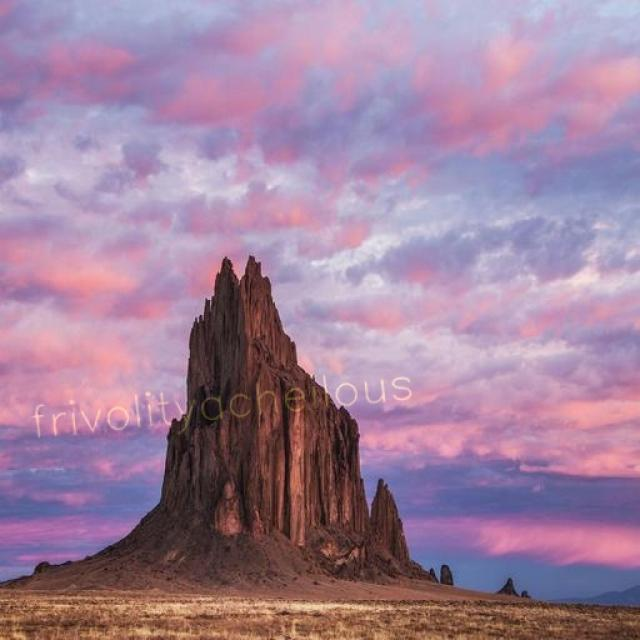watermark: (21, 363, 416, 446)
